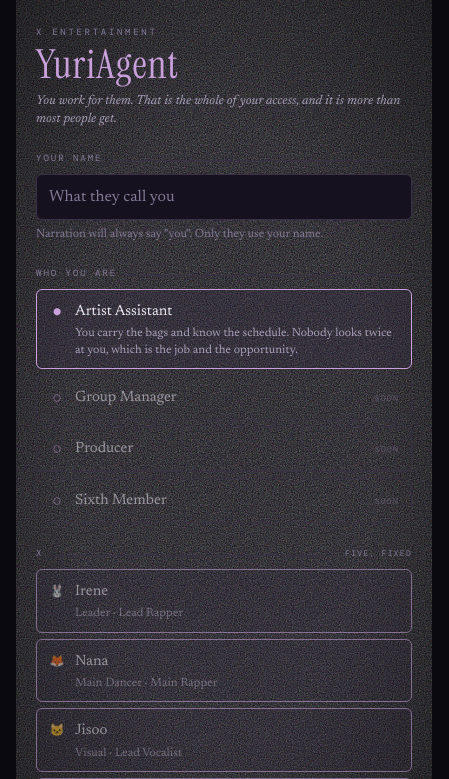
Test case: starting a run › reaches the day screen with the name the player typed
Type "Yuhan" into the field at (224, 197), box x1=36 y1=174 x2=412 y2=220
(page scrolled)
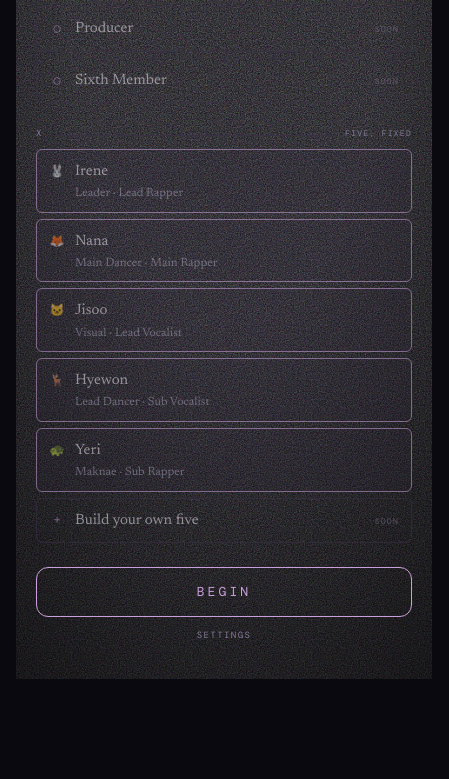
Click the button "Begin" at (224, 592), box x1=36 y1=567 x2=412 y2=617
(page scrolled)
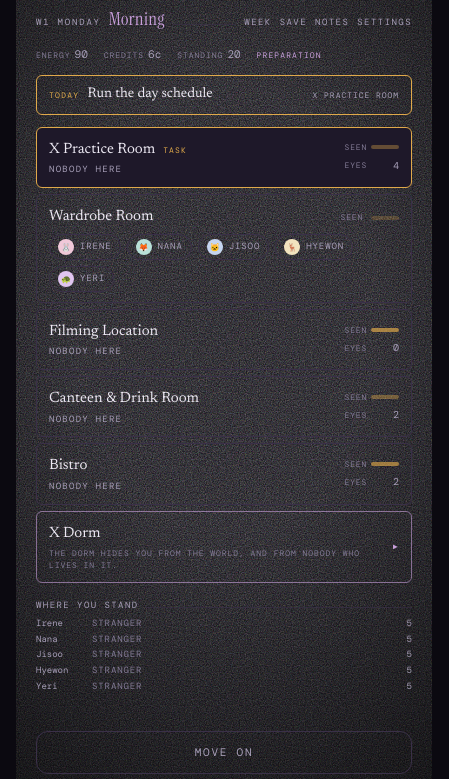
Expected: the button "Week" is shown, x1=244 y1=16 x2=272 y2=30
Expected: the text "Energy" is shown, x1=36 y1=49 x2=71 y2=61
